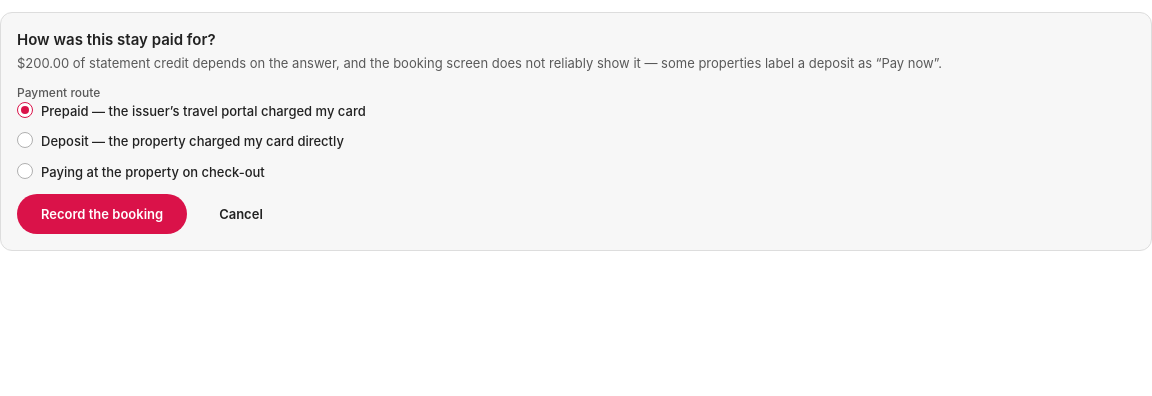
Test: PaymentRoutePrompt — the credit-forfeiting routes › warns, and names the remedy, when the property took a deposit instead
Click the 2nd radio button named "the property charged my card directly". click: (25, 140)
box: [17,132,33,148]
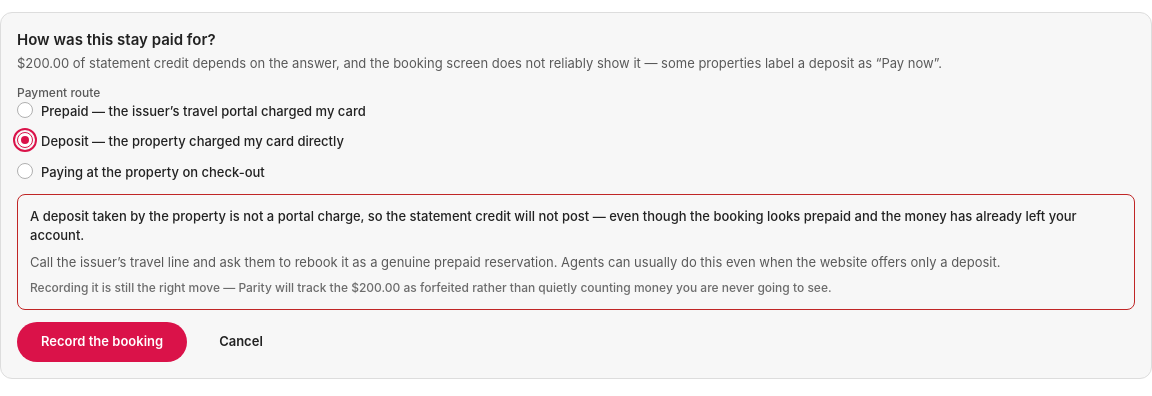
Result: the message shows "will not post" at [30,208,1077,243]
Result: the message shows "travel line" at [30,254,1000,270]
